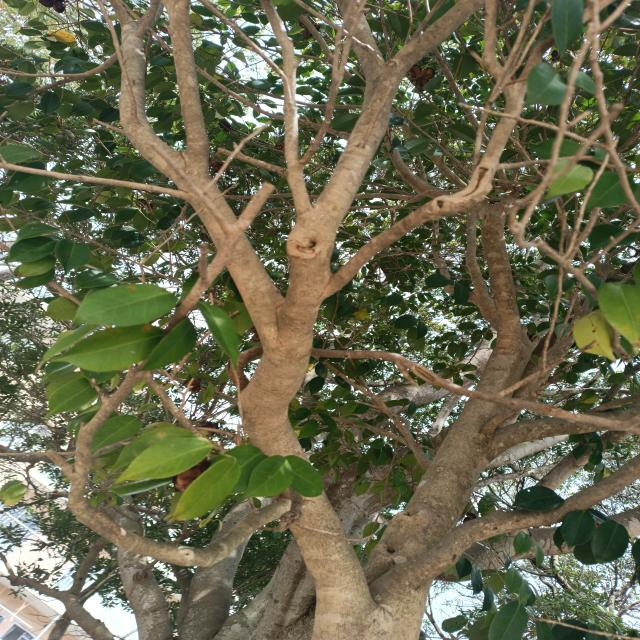Branch: (241, 81, 391, 609), (118, 19, 285, 354), (377, 453, 640, 604), (364, 344, 525, 581), (488, 404, 640, 462)
Twig: (330, 1, 528, 295), (308, 348, 640, 433), (378, 0, 484, 107), (261, 0, 311, 216), (162, 0, 211, 172), (431, 214, 498, 329), (0, 164, 184, 199), (484, 205, 520, 345), (335, 0, 385, 89)
